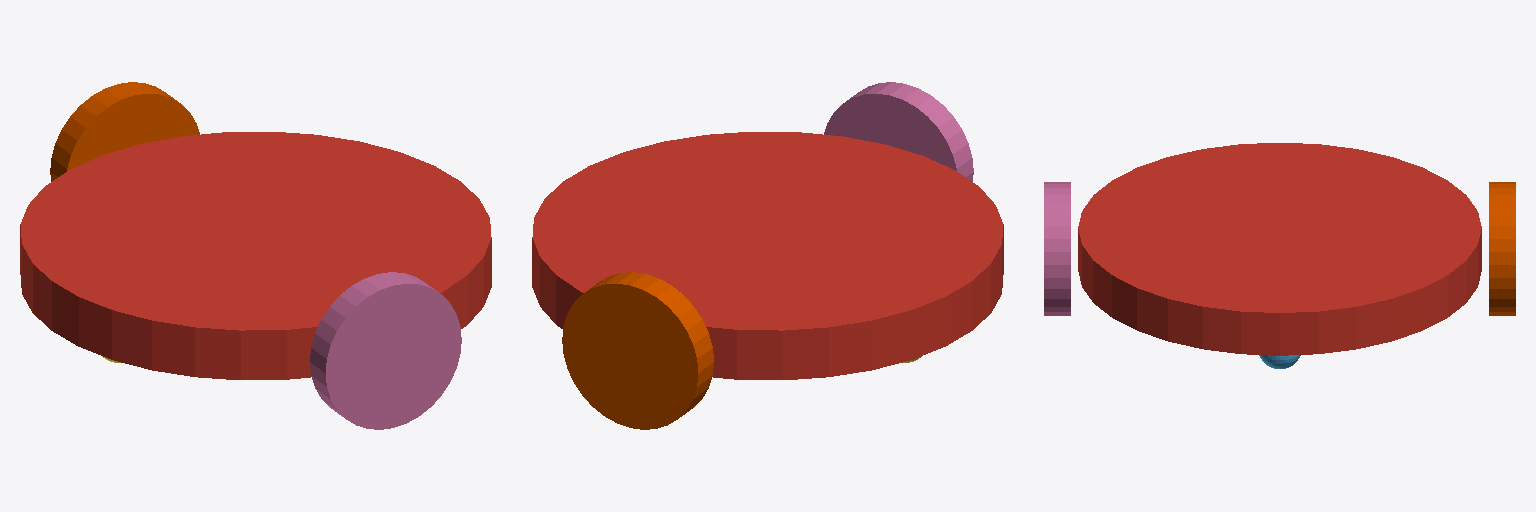
The robot description file, URDF, robot "dot":
<?xml version="1.0" ?>

<robot name="dot" xmlns:xacro="https://www.ros.org/wiki/xacro" >

  <gazebo>
    <plugin name="gazebo_ros_control" filename="libgazebo_ros_control.so">
      <robotNamespace>/dot</robotNamespace>
    </plugin>
  </gazebo>    
    
  <material name="black">
    <color rgba="0.0 0.0 0.0 1.0"/>
  </material>
  <material name="blue">
    <color rgba="0.203125 0.23828125 0.28515625 1.0"/>
  </material>
  <material name="green">
    <color rgba="0.0 0.8 0.0 1.0"/>
  </material>
  <material name="grey">
    <color rgba="0.2 0.2 0.2 1.0"/>
  </material>
  <material name="orange">
    <color rgba="1.0 0.423529411765 0.0392156862745 1.0"/>
  </material>
  <material name="brown">
    <color rgba="0.870588235294 0.811764705882 0.764705882353 1.0"/>
  </material>
  <material name="red">
    <color rgba="0.796078431 0.262745098 0.207843137 1.0"/>
  </material>
  <material name="white">
    <color rgba="1.0 1.0 1.0 1.0"/>
  </material>  
  
  <!-- <gazebo reference="link_chassis">
    <material>Gazebo/Red</material>
  </gazebo> --> 
  <gazebo reference="caster_link">
    <material>Gazebo/Black</material>
  </gazebo> 
  <gazebo reference="link_left_wheel">
    <material>Gazebo/Black</material>
  </gazebo>
  <gazebo reference="link_right_wheel">
    <material>Gazebo/Black</material>
  </gazebo>
    
  <link name="link_chassis">
    <!-- pose and inertial -->
    <pose>0 0 0.1 0 0 0</pose>
    
    <inertial>
      <mass value="5"/>
      <origin rpy="0 0 0" xyz="0 0 0"/>
      <inertia ixx="0.0395416666667" ixy="0" ixz="0" iyy="0.106208333333" iyz="0" izz="0.106208333333"/>
    </inertial>
    
    <collision name="collision_chassis">
      <geometry>
        <cylinder length="0.07" radius="0.3"/>
      </geometry>
    </collision>
    
    <visual>
      <origin rpy="0 0 0" xyz="0 0 0"/>
      <geometry>
        <cylinder length="0.07" radius="0.3"/>
      </geometry>
      <material name="red"/>
    </visual>
    </link> 

  <!-- caster front -->
  <link name="caster_link_1">
    <inertial>
      <mass value="0.2"/>
      <origin rpy="0 0 0" xyz="0 0 0"/>
      <inertia ixx="0.00052666666" ixy="0" ixz="0" iyy="0.00052666666" iyz="0" izz="0.001"/>
    </inertial>
    <collision>
      <origin rpy="0 0 0" xyz="0 0 0" />
      <geometry>
        <sphere radius="0.033"/>
      </geometry>
    </collision>
    <visual>
      <origin rpy="0 0 0" xyz="0 0 0"/>
      <geometry>
        <sphere radius="0.033"/>
      </geometry>
    </visual>
  </link>

  <link name="dummy_link_1">
    <inertial>
      <mass value="0.001"/>
      <origin rpy="0 0 0" xyz="0 0 0"/>
      <inertia ixx="0" ixy="0" ixz="0" iyy="0.0" iyz="0" izz="0"/>
    </inertial>
  </link>

  <joint name="caster_joint_11" type="revolute">
    <origin rpy="0 0 0" xyz="0.2 0 -0.0675" />
    <child link="dummy_link_1" />
    <parent link="link_chassis" />
    <axis xyz="0 0 1" />
    <limit effort="0.26" velocity="20" />
    <joint_properties damping="0.1" friction="0.1" />
  </joint>

  <joint name="caster_joint_12" type="revolute">
    <origin rpy="0 0 0" xyz="0 0 0"/>
    <child link="caster_link_1" />
    <parent link="dummy_link_1" />
    <axis xyz="0 1 0" />
    <limit effort="0.26" velocity="20" />
    <joint_properties damping="0.1" friction="0.1" />
  </joint>

  <link name="caster_link_2">
    <inertial>
      <mass value="0.2"/>
      <origin rpy="0 0 0" xyz="0 0 0"/>
      <inertia ixx="0.00052666666" ixy="0" ixz="0" iyy="0.00052666666" iyz="0" izz="0.001"/>
    </inertial>
    <collision>
      <origin rpy="0 0 0" xyz="0 0 0" />
      <geometry>
        <sphere radius="0.033"/>
      </geometry>
    </collision>
    <visual>
      <origin rpy="0 0 0" xyz="0 0 0"/>
      <geometry>
        <sphere radius="0.033"/>
      </geometry>
    </visual>
  </link>

  <link name="dummy_link_2">
    <inertial>
      <mass value="0.001"/>
      <origin rpy="0 0 0" xyz="0 0 0"/>
      <inertia ixx="0" ixy="0" ixz="0" iyy="0.0" iyz="0" izz="0"/>
    </inertial>
  </link>

  <joint name="caster_joint_21" type="revolute">
    <origin rpy="0 0 0" xyz="-0.2 0 -0.0675"/>
    <child link="dummy_link_2" />
    <parent link="link_chassis" />
    <axis xyz="0 0 1" />
    <limit effort="0.26" velocity="20" />
    <joint_properties damping="0.1" friction="0.1" />
  </joint>

  <joint name="caster_joint_22" type="revolute">
    <origin rpy="0 0 0" xyz="0 0 0"/>
    <child link="caster_link_2" />
    <parent link="dummy_link_2" />
    <axis xyz="0 1 0" />
    <limit effort="0.26" velocity="20" />
    <joint_properties damping="0.1" friction="0.1" />
  </joint>
  
  <!-- Create wheel right -->  
    
  <link name="link_right_wheel">    
    <inertial>
      <mass value="0.2"/>
      <origin rpy="0 1.5707 1.5707" xyz="0 0 0"/>
      <inertia ixx="0.00052666666" ixy="0" ixz="0" iyy="0.00052666666" iyz="0" izz="0.001"/>
    </inertial>
    
    <collision name="link_right_wheel_collision">
      <origin rpy="0 1.5707 1.5707" xyz="0 0 0" />
      <geometry>
        <cylinder length="0.04" radius="0.1"/>
      </geometry>
    </collision>
    
    <visual name="link_right_wheel_visual">
      <origin rpy="0 1.5707 1.5707" xyz="0 0 0"/>
      <geometry>
        <cylinder length="0.04" radius="0.1"/>
      </geometry>      
    </visual>
    
  </link>
    
  <!--   Joint for right wheel  -->
  <joint name="joint_right_wheel" type="continuous">
    <origin rpy="0 0 0" xyz="0 0.33 0"/>
    <child link="link_right_wheel" />
    <parent link="link_chassis"/>
    <axis rpy="0 0 0" xyz="0 1 0"/>
    <limit effort="2.6" velocity="20"/>
    <joint_properties damping="0.1" friction="0.1" />
  </joint>  
    
  <!-- Left Wheel link -->
    
  <link name="link_left_wheel">    
    <inertial>
      <mass value="0.2"/>
      <origin rpy="0 1.5707 1.5707" xyz="0 0 0"/>
      <inertia ixx="0.00052666666" ixy="0" ixz="0" iyy="0.00052666666" iyz="0" izz="0.001"/>
    </inertial>
    
    <collision name="link_left_wheel_collision">
      <origin rpy="0 1.5707 1.5707" xyz="0 0 0" />
      <geometry>
        <cylinder length="0.04" radius="0.1"/>
      </geometry>
    </collision>
    
    <visual name="link_left_wheel_visual">
      <origin rpy="0 1.5707 1.5707" xyz="0 0 0"/>
      <geometry>
        <cylinder length="0.04" radius="0.1"/>
      </geometry>      
    </visual>
    
  </link>
    
  <!--   Joint for left wheel  -->
  <joint name="joint_left_wheel" type="continuous">
    <origin rpy="0 0 0" xyz="0 -0.33 0"/>
    <child link="link_left_wheel" />
    <parent link="link_chassis"/>
    <axis rpy="0 0 0" xyz="0 1 0"/>
    <limit effort="2.6" velocity="20"/>
    <joint_properties damping="0.1" friction="0.1" />
  </joint>    

  <transmission name="tran1">
    <type>transmission_interface/SimpleTransmission</type>
    <joint name="joint_right_wheel">
      <hardwareInterface>hardware_interface/EffortJointInterface</hardwareInterface>
    </joint>
    <actuator name="right_motor">
      <hardwareInterface>hardware_interface/EffortJointInterface</hardwareInterface>
      <mechanicalReduction>50</mechanicalReduction>
    </actuator>
  </transmission>

  <transmission name="tran2">
    <type>transmission_interface/SimpleTransmission</type>
    <joint name="joint_left_wheel">
      <hardwareInterface>hardware_interface/EffortJointInterface</hardwareInterface>
    </joint>
    <actuator name="left_motor">
      <hardwareInterface>hardware_interface/EffortJointInterface</hardwareInterface>
      <mechanicalReduction>50</mechanicalReduction>
    </actuator>
  </transmission>
  
</robot>

--- What the picture shows (computed from the rendered views, not written in the file) ---
3 views of the same robot in one strip: view 1: azimuth 30°, elevation 25°; view 2: azimuth 150°, elevation 25°; view 3: azimuth 270°, elevation 25° (orthographic).
Robot: dot — 7 links, 6 joints (4 revolute, 2 continuous); root link link_chassis; default pose: all joints at 0.
Visible links, largest first — view 1: link_chassis, link_left_wheel, link_right_wheel; view 2: link_chassis, link_right_wheel, link_left_wheel; view 3: link_chassis, link_right_wheel, link_left_wheel.
Link boxes in pixels (x1,y1,x2,y2): link_chassis: (20,132,491,379); link_left_wheel: (310,272,461,429); link_right_wheel: (50,82,199,181); link_chassis: (532,132,1003,379); link_right_wheel: (562,272,713,429); link_left_wheel: (824,82,973,181); link_chassis: (1078,143,1481,355); link_right_wheel: (1489,182,1515,315); link_left_wheel: (1044,182,1070,315).
Size in the robot's own frame: 0.6 by 0.7 by 0.2005 metres.
Geometry: primitives only (box / cylinder / sphere), no mesh files.